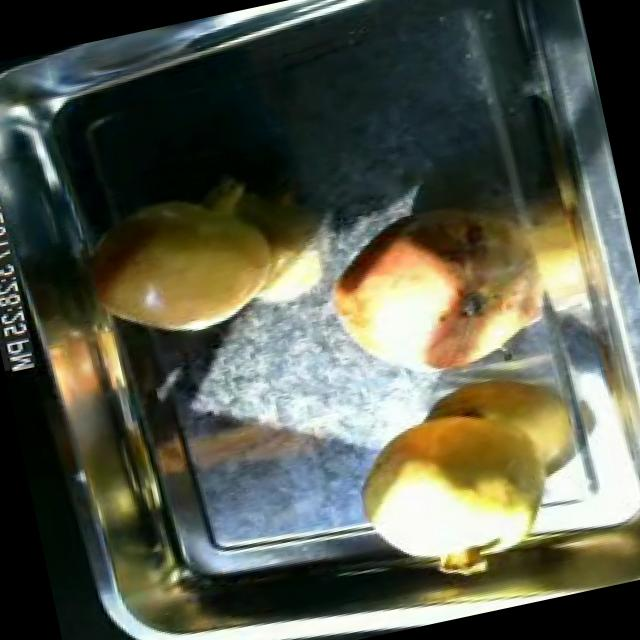fruit: (300, 175, 579, 406), (332, 380, 582, 596), (62, 172, 294, 360)
